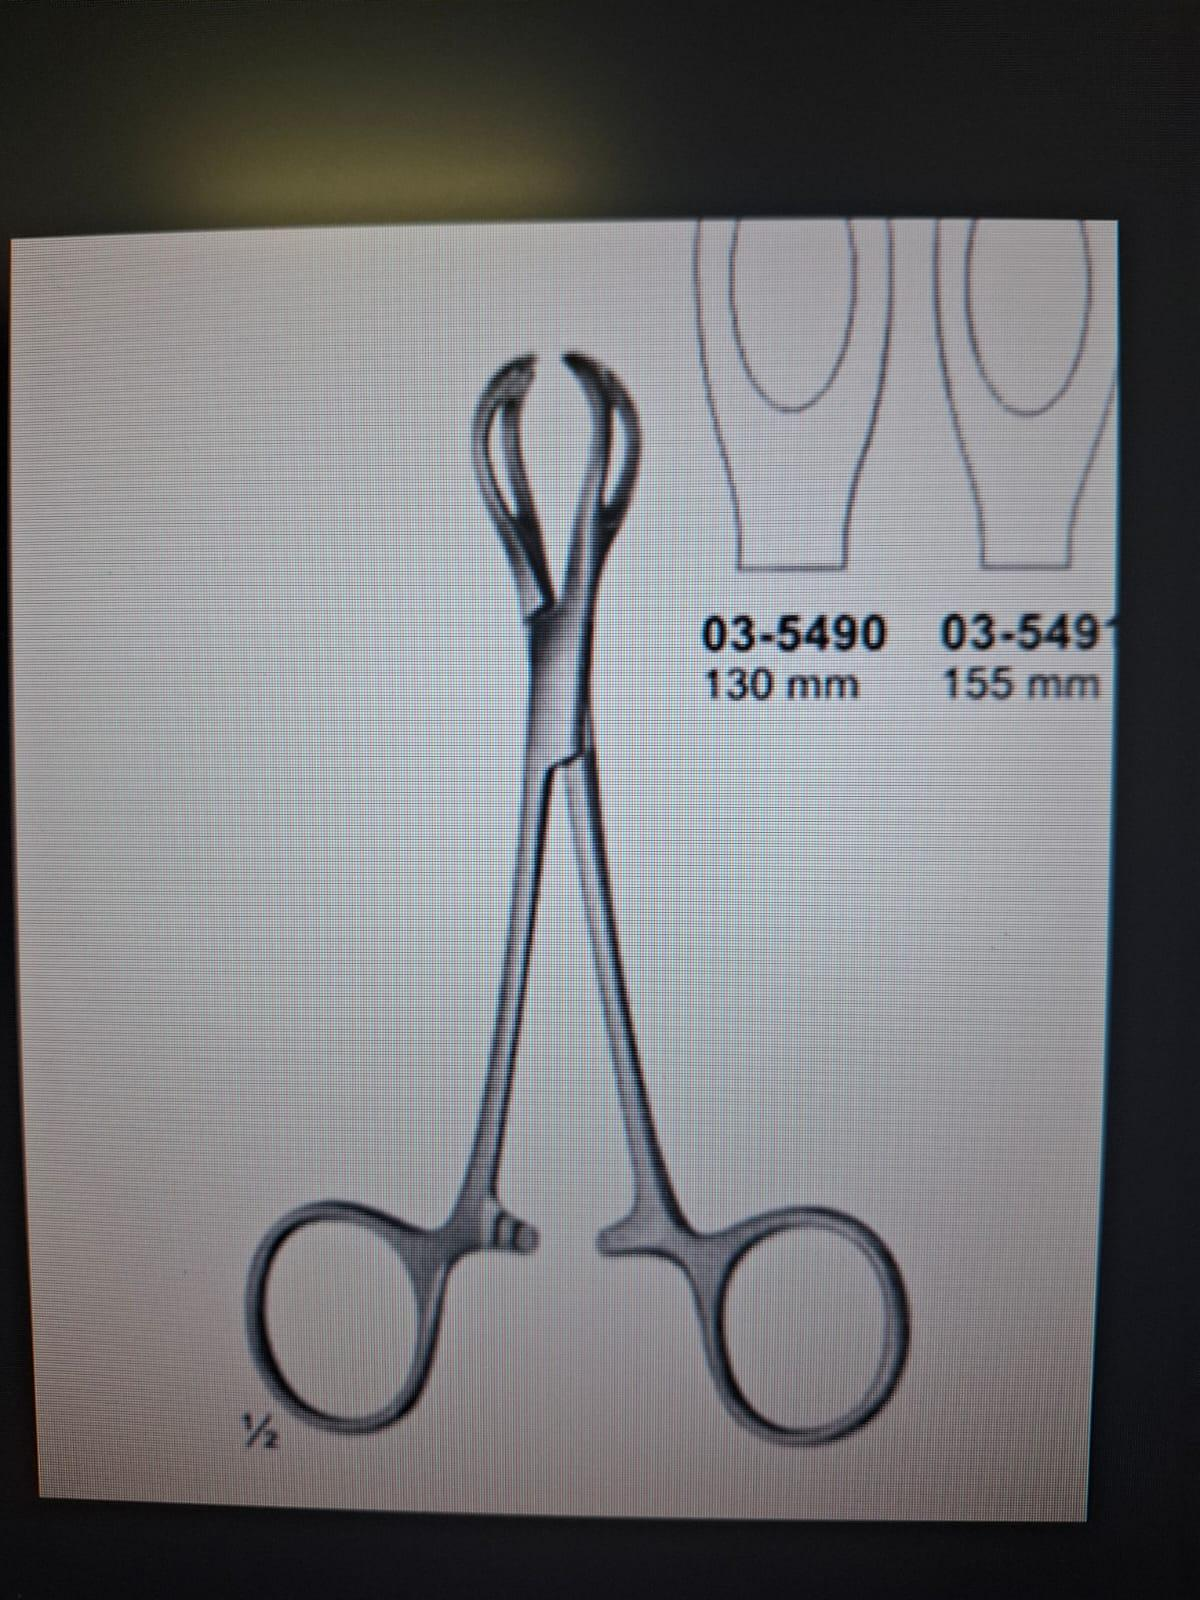Lane Tissue Forceps: (225, 338, 930, 1460)
